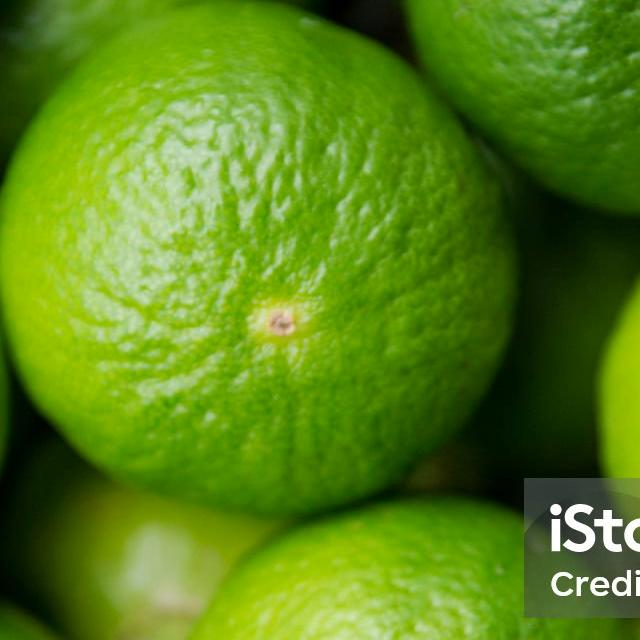lime: (0, 4, 521, 524)
